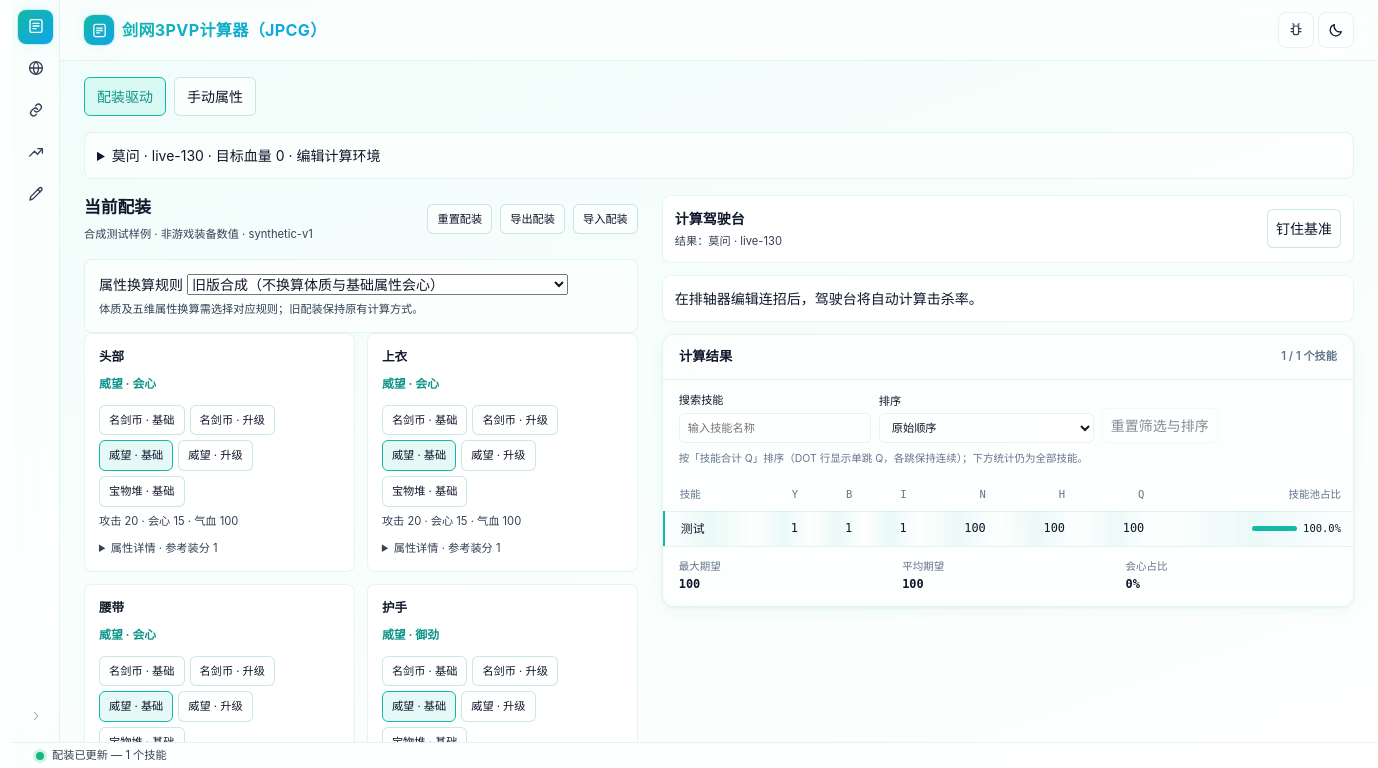
Test: 规则选择后将宿主换算攻击与加速送到计算链，重启保留选择且不改手动值
The image size is (1378, 768).
Select "从职业 TOML 读取换算规则（当前50级，需填写并验证）" in the dropdown named "属性换算规则" at (377, 284), box [187,274,568,295]
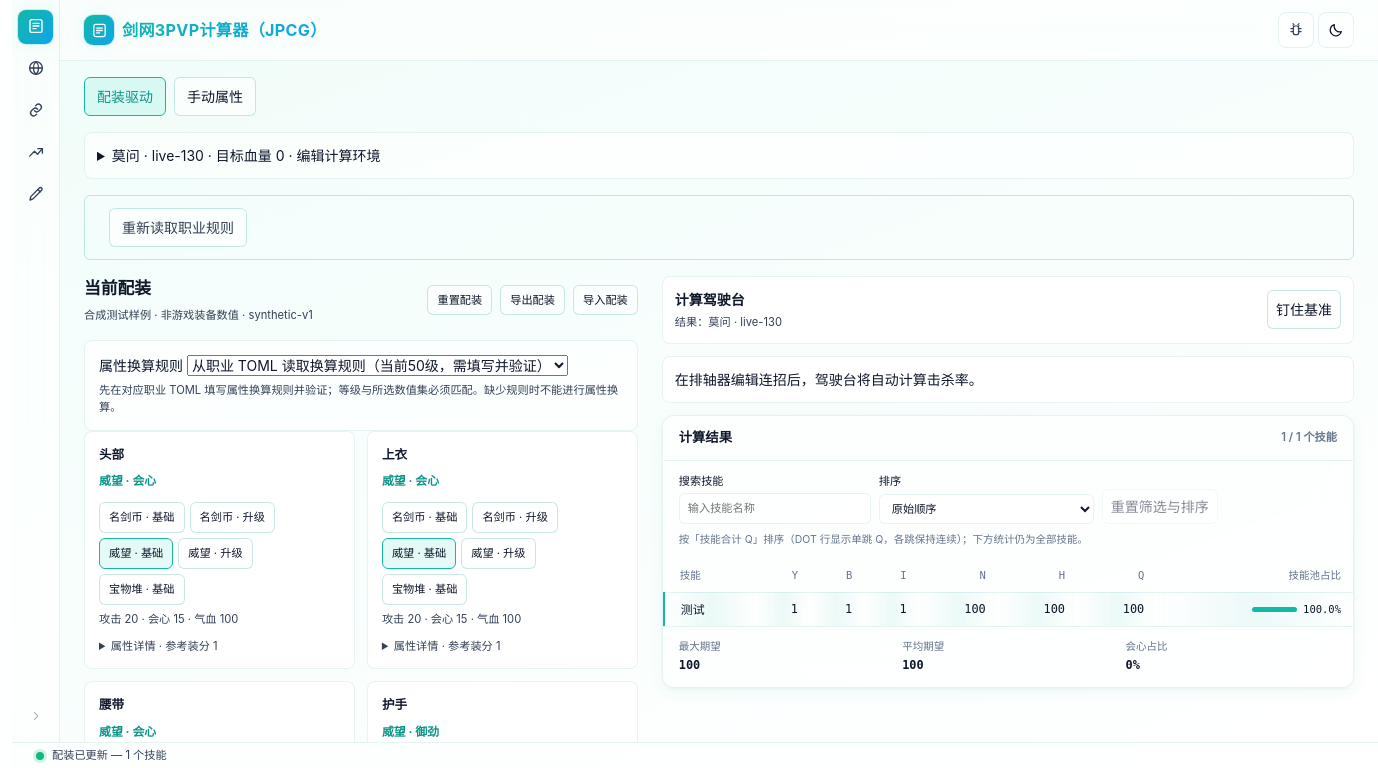
Now the dropdown named "属性换算规则" shows "从职业 TOML 读取换算规则（当前50级，需填写并验证）", box [187,355,568,376]
